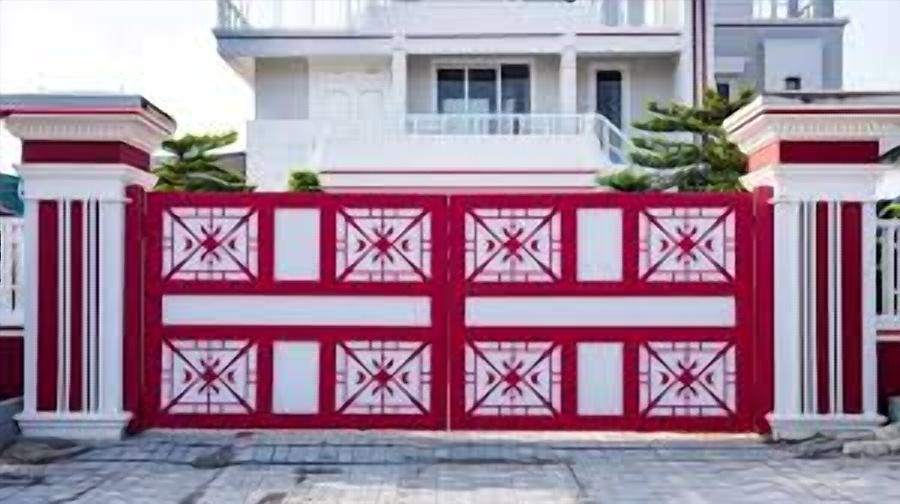Building: (207, 0, 851, 294)
Gate: (124, 182, 773, 438)
Window-without-grill: (436, 65, 531, 135), (595, 68, 621, 156), (602, 0, 644, 29)
